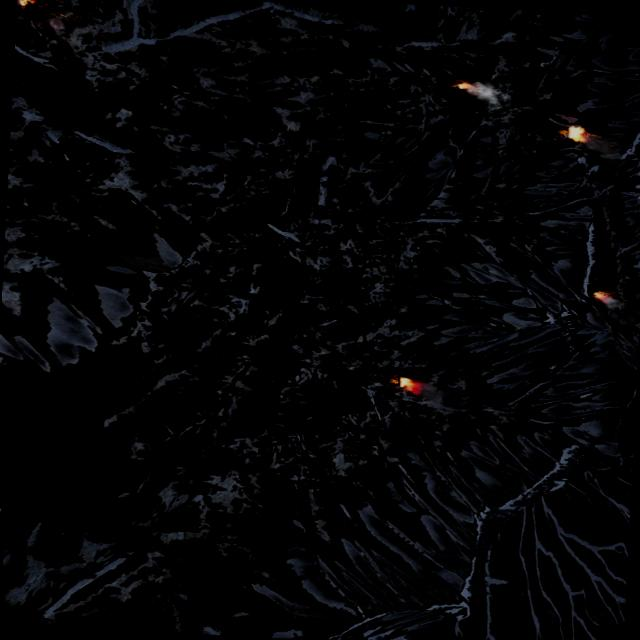fire: (564, 125, 586, 142), (396, 378, 420, 392), (592, 291, 610, 302), (454, 81, 470, 90), (16, 0, 31, 7)
smoke: (34, 0, 98, 40), (586, 136, 632, 170), (415, 380, 458, 409), (466, 80, 504, 108), (604, 296, 638, 326)
